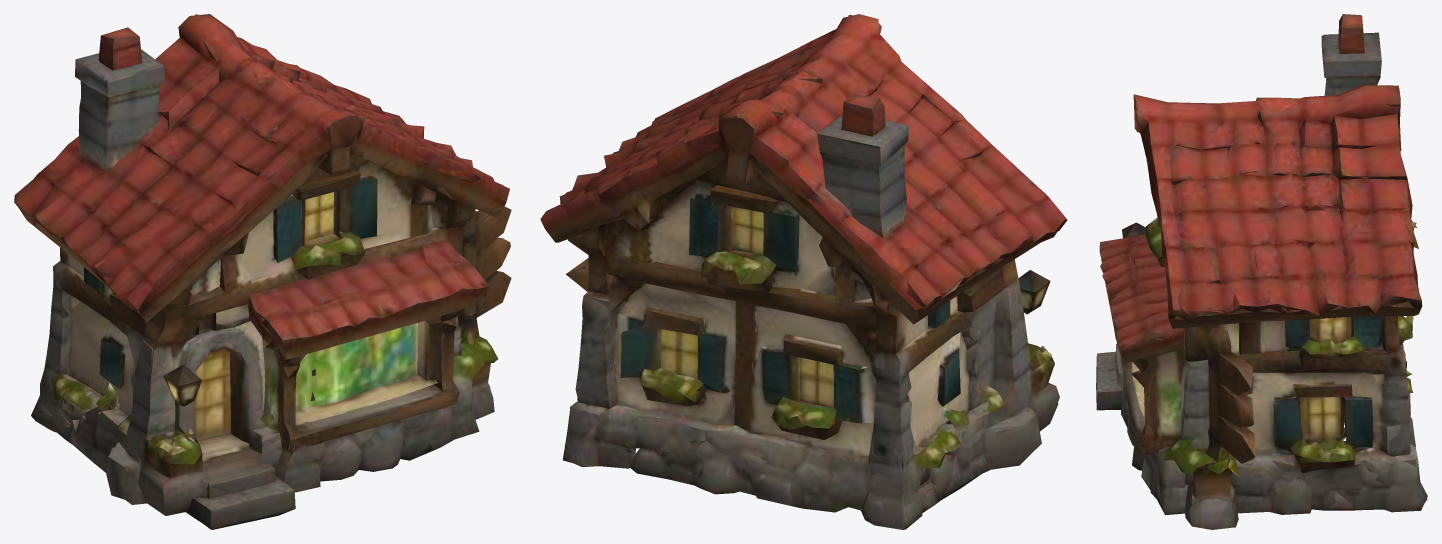
3 renders of one model, left to right at view 1: azimuth 30°, elevation 25°; view 2: azimuth 150°, elevation 25°; view 3: azimuth 270°, elevation 25°, orthographic. The views are drawn at different scales.
Parts seen in each view (by area): view 1: alpine__junction_hub__neural_lod; view 2: alpine__junction_hub__neural_lod; view 3: alpine__junction_hub__neural_lod.
Boxes of the visible parts, <box> form: alpine__junction_hub__neural_lod: <box>14,14,511,529</box>; alpine__junction_hub__neural_lod: <box>540,14,1067,529</box>; alpine__junction_hub__neural_lod: <box>1096,14,1427,529</box>.
Size of the model in its own units: 0.9992 by 0.8605 by 0.6885.
Materials: 1 (1 with a texture image).
